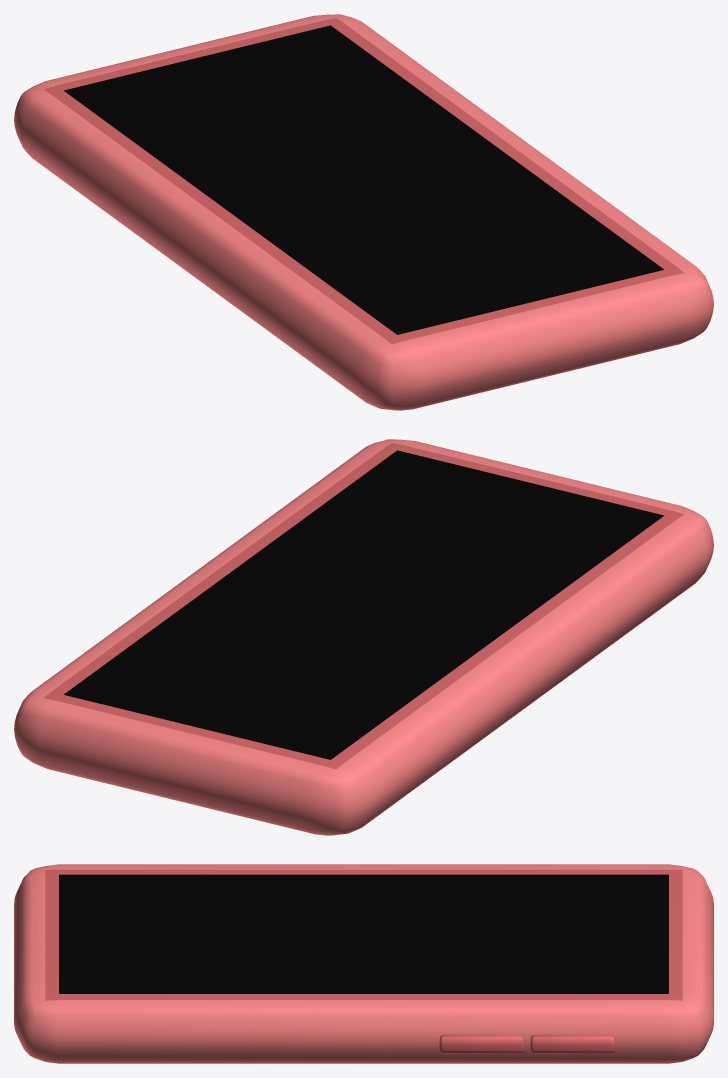
The model's file is 3d_phone.fbx.
3 renders of one model, top to bottom at view 1: azimuth 30°, elevation 25°; view 2: azimuth 150°, elevation 25°; view 3: azimuth 270°, elevation 25°, orthographic. The views are drawn at different scales.
Parts seen in each view (by area): view 1: 3d_phone; view 2: 3d_phone; view 3: 3d_phone.
Part boxes in pixels (x1,y1,x2,y2): 3d_phone: (14, 14, 713, 410); 3d_phone: (14, 439, 713, 835); 3d_phone: (14, 864, 713, 1063).
Size of the model in its own units: 0.1055 by 0.0196 by 0.1925.
